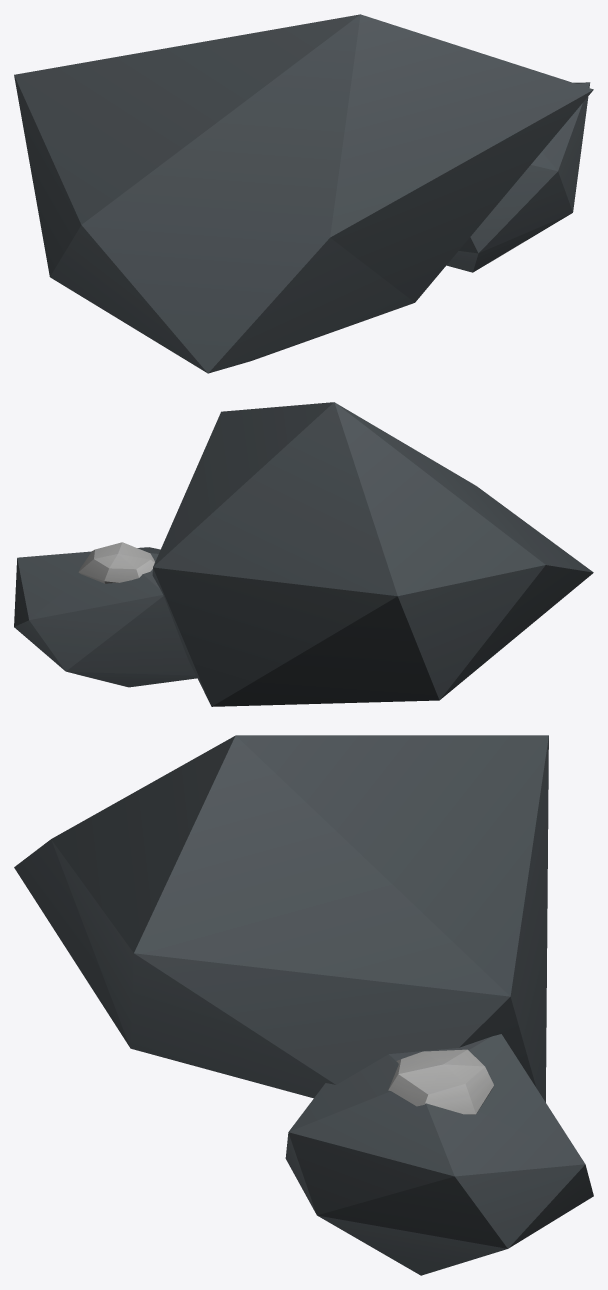
The model's file is ash_boulder_a.glb.
3 views of the same model, one above another, from view 1: azimuth 30°, elevation 25°; view 2: azimuth 150°, elevation 25°; view 3: azimuth 270°, elevation 25° (orthographic). The views are drawn at different scales.
Visible parts, largest first — view 1: ash_boulder_a; view 2: ash_boulder_a; view 3: ash_boulder_a.
Boxes of the visible parts, <box> form: ash_boulder_a: <box>14,14,593,373</box>; ash_boulder_a: <box>14,402,593,706</box>; ash_boulder_a: <box>14,735,593,1275</box>.
Size of the model in its own units: 2.65 by 1.53 by 1.87.
1 material, 1 textured.
